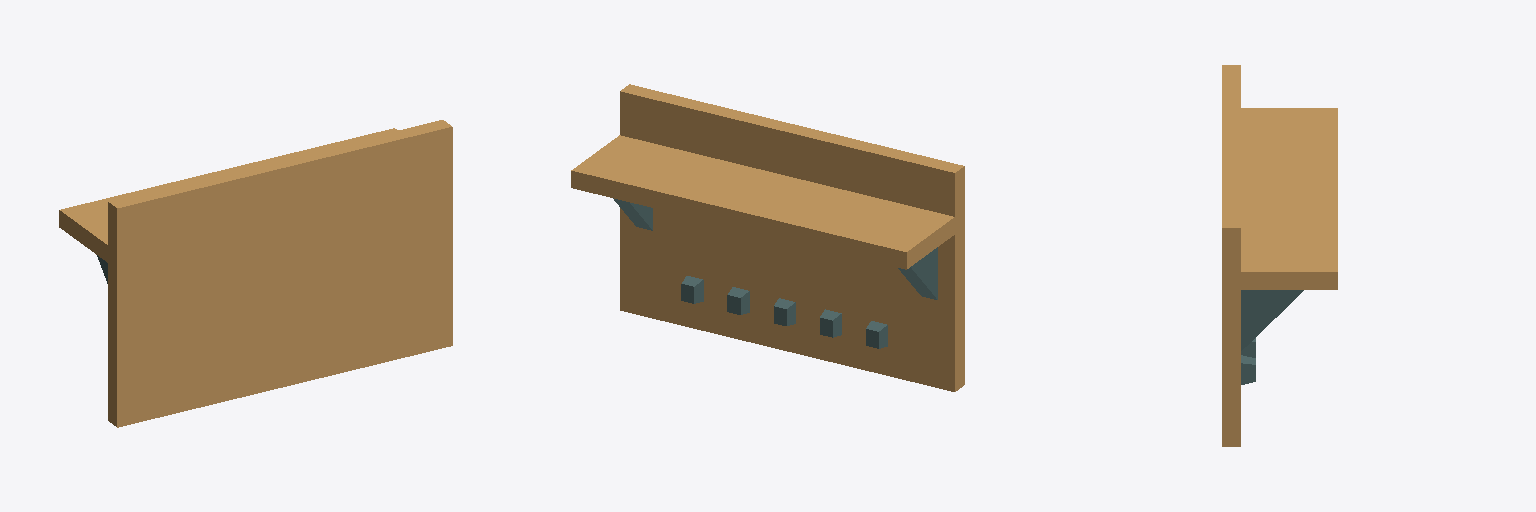
File: coatRack.obj
The picture shows the model from 3 angles: view 1: azimuth 30°, elevation 25°; view 2: azimuth 150°, elevation 25°; view 3: azimuth 270°, elevation 25°; orthographic projection.
Visible parts, largest first — view 1: coatRack; view 2: coatRack; view 3: coatRack.
Part boxes in pixels (x1,y1,x2,y2): coatRack: (59,120,452,427); coatRack: (571,84,964,391); coatRack: (1222,65,1337,446).
Bounding box in the file's own units: 4.48 × 2.8 × 1.34.